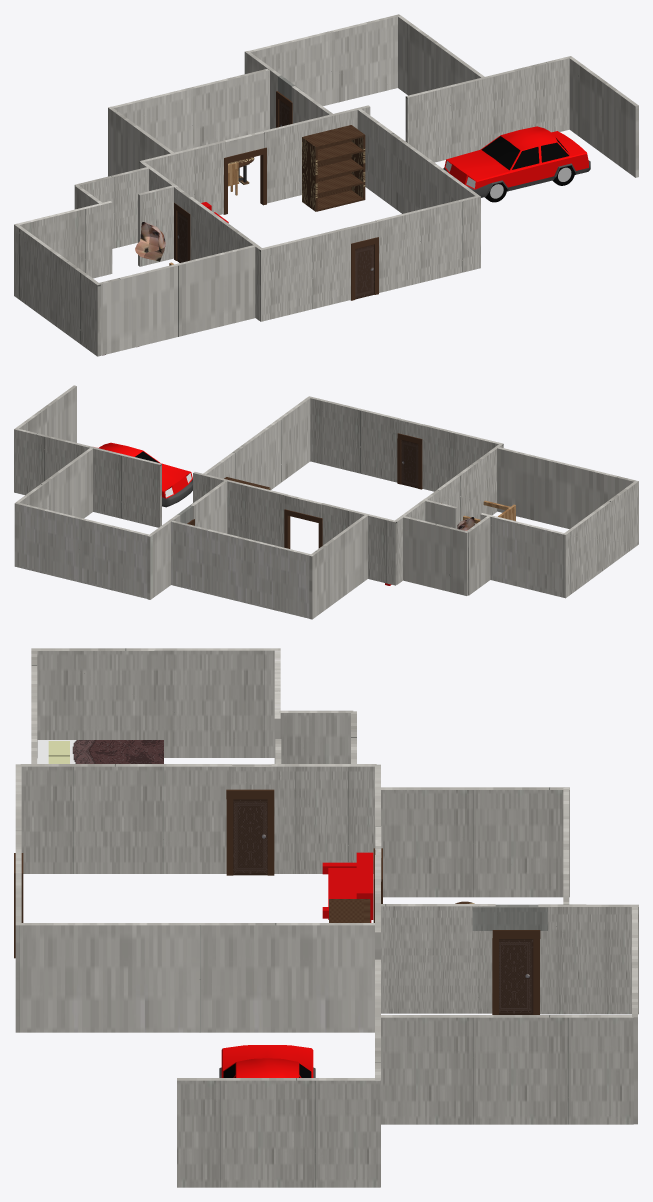
Rendered from WALL.fbx.
The picture shows the model from 3 angles, top to bottom: view 1: azimuth 30°, elevation 25°; view 2: azimuth 150°, elevation 25°; view 3: azimuth 270°, elevation 25°; orthographic projection. The views are drawn at different scales.
Visible parts, largest first — view 1: Cube.025, Cube.056, Cube.054, Cube.037, Cube.001, Cube.002, Car, Cube.007, Cube.011, Cube.057, Plane.001, Cube.024 (+15 smaller); view 2: Cube.037, Cube.054, Cube.056, Cube.025, Cube.001, Cube.007, Cube.024, Cube.011, Cube.014, Cube.036, Cube.005, Cube.002 (+16 smaller); view 3: Cube.011, Cube.055, Cube.007, Cube.008, Cube.057, Cube.036, Cube.042, Cube.004, Cube.041, Cube.013, Car, Cube.065 (+13 smaller).
Part boxes in pixels (left/top/right/bottom): Cube.025: left=96, top=245, right=255, bottom=355; Cube.056: left=405, top=56, right=571, bottom=162; Cube.054: left=248, top=14, right=400, bottom=105; Cube.037: left=109, top=68, right=269, bottom=152; Cube.001: left=375, top=195, right=480, bottom=292; Cube.002: left=259, top=227, right=350, bottom=321; Car: left=443, top=126, right=590, bottom=202; Cube.007: left=14, top=223, right=100, bottom=356; Cube.011: left=357, top=109, right=478, bottom=213; Cube.057: left=569, top=56, right=638, bottom=177; Plane.001: left=302, top=125, right=365, bottom=211; Cube.024: left=17, top=201, right=112, bottom=278; Cube.037: left=171, top=520, right=312, bottom=618; Cube.054: left=14, top=502, right=149, bottom=598; Cube.056: left=14, top=428, right=161, bottom=527; Cube.025: left=497, top=447, right=635, bottom=528; Cube.001: left=308, top=396, right=400, bottom=482; Cube.007: left=563, top=480, right=638, bottom=598; Cube.024: left=480, top=513, right=564, bottom=597; Cube.011: left=203, top=397, right=310, bottom=490; Cube.014: left=401, top=516, right=467, bottom=595; Cube.036: left=309, top=515, right=367, bottom=619; Cube.005: left=193, top=472, right=287, bottom=547; Cube.002: left=422, top=424, right=503, bottom=491; Cube.011: left=19, top=923, right=374, bottom=1032; Cube.055: left=381, top=1015, right=633, bottom=1124; Cube.007: left=31, top=648, right=280, bottom=757; Cube.008: left=20, top=764, right=231, bottom=873; Cube.057: left=177, top=1078, right=380, bottom=1187; Cube.036: left=381, top=787, right=569, bottom=897; Cube.042: left=381, top=904, right=495, bottom=1013; Cube.004: left=271, top=764, right=376, bottom=873; Cube.041: left=538, top=904, right=638, bottom=1014; Cube.013: left=279, top=710, right=353, bottom=763; Car: left=219, top=1045, right=315, bottom=1077; Cube.065: left=233, top=799, right=267, bottom=875.
Size of the model in its own units: 3708 by 466 by 2265.
Materials: 36 (21 with a texture image).
